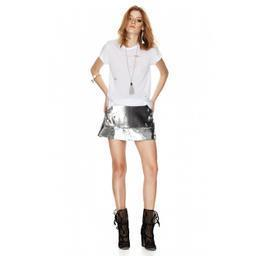Tshirt: (98, 40, 163, 107)
skirt: (98, 101, 158, 140)
